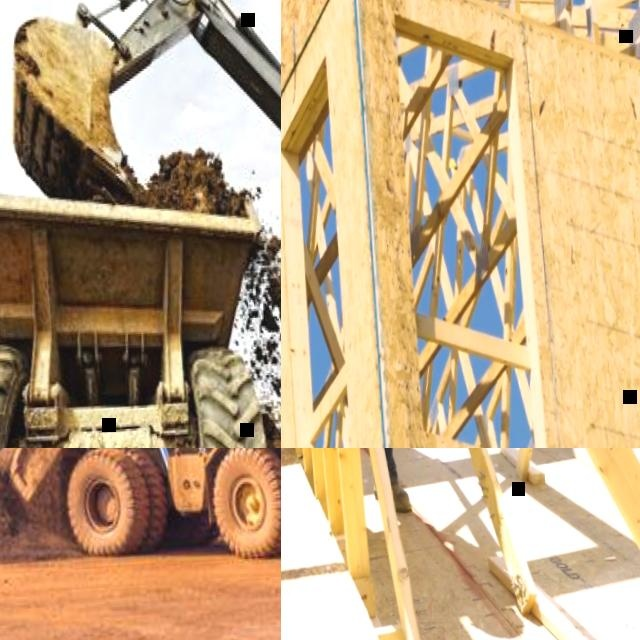machinery: (0, 0, 281, 448), (0, 132, 281, 448), (0, 448, 281, 589)
